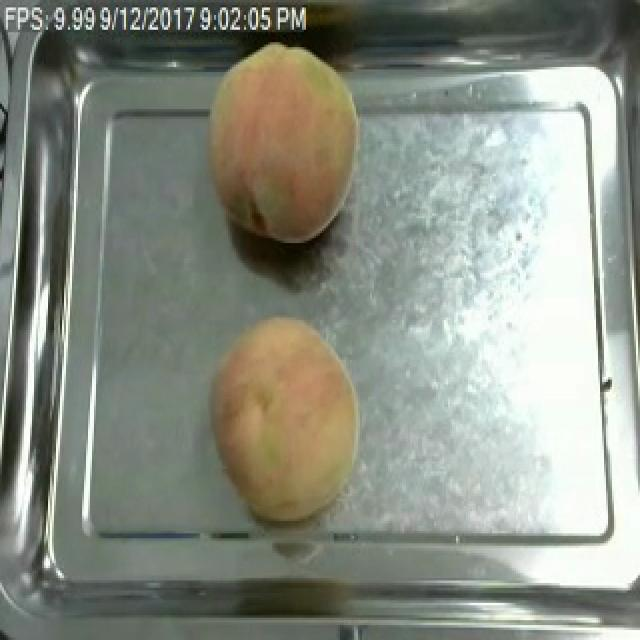Fruit: (198, 32, 370, 251), (204, 307, 368, 526)
